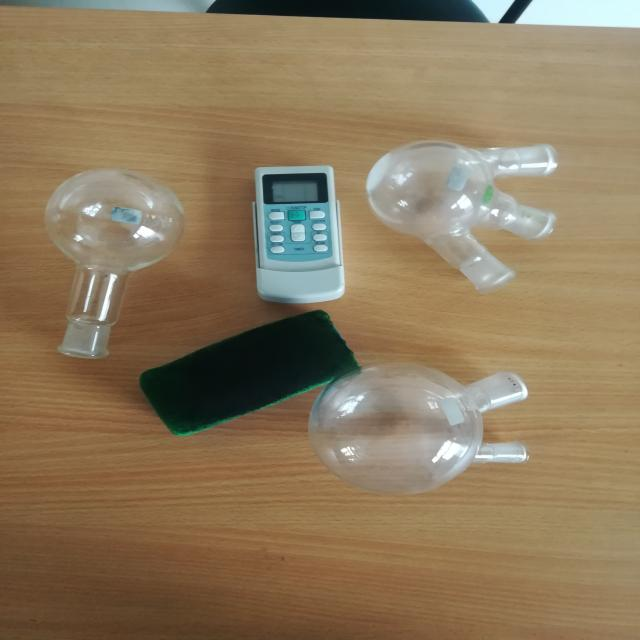Round_Bottom_Flask_Borosilicate_Glass_1_Neck: (18, 150, 198, 374)
Round_Bottom_Flask_Borosilicate_Glass_2_Neck: (276, 333, 584, 529)
Round_Bottom_Flask_Borosilicate_Glass_3_Neck: (349, 120, 600, 315)
